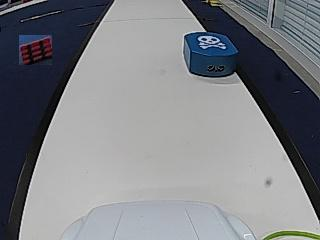danger: (198, 34, 226, 49)
